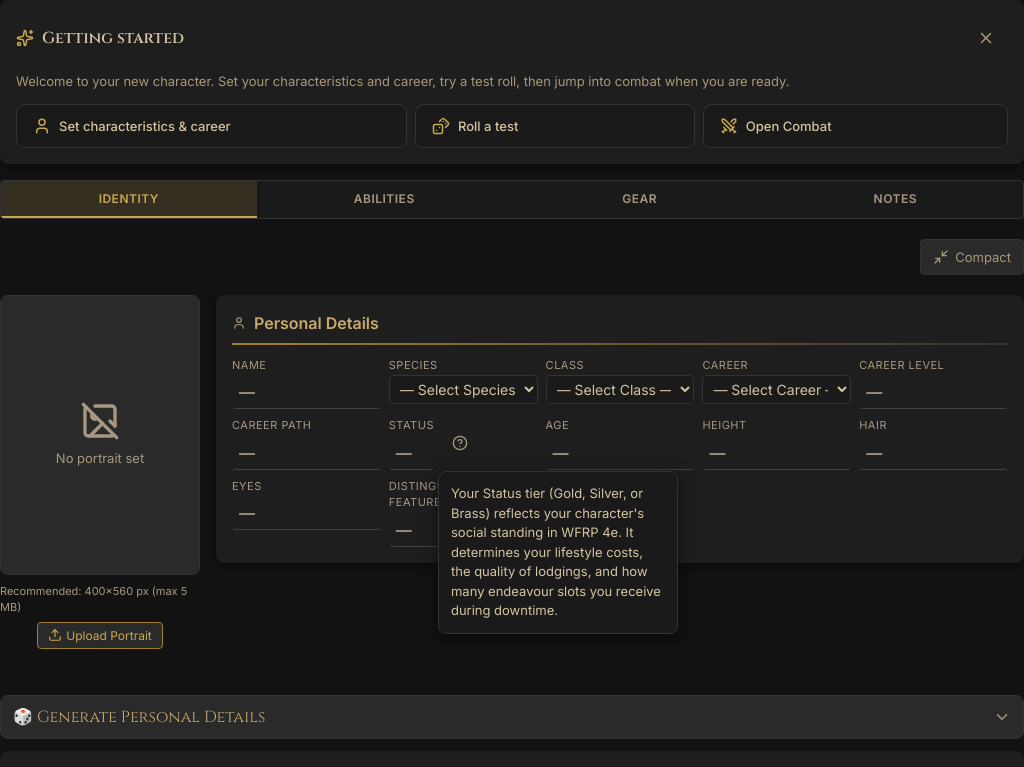
Test: CharacterPage compact mode (Req 9.1, 9.2, 9.3, 9.4) › compact mode renders summary (Req 9.2) › shows "(Unnamed)" when character name is empty in compact mode
This screenshot has width=1024, height=767.
Click the button with aria-label "switch to compact view". click: (972, 256)
box: [920,238,1023,274]
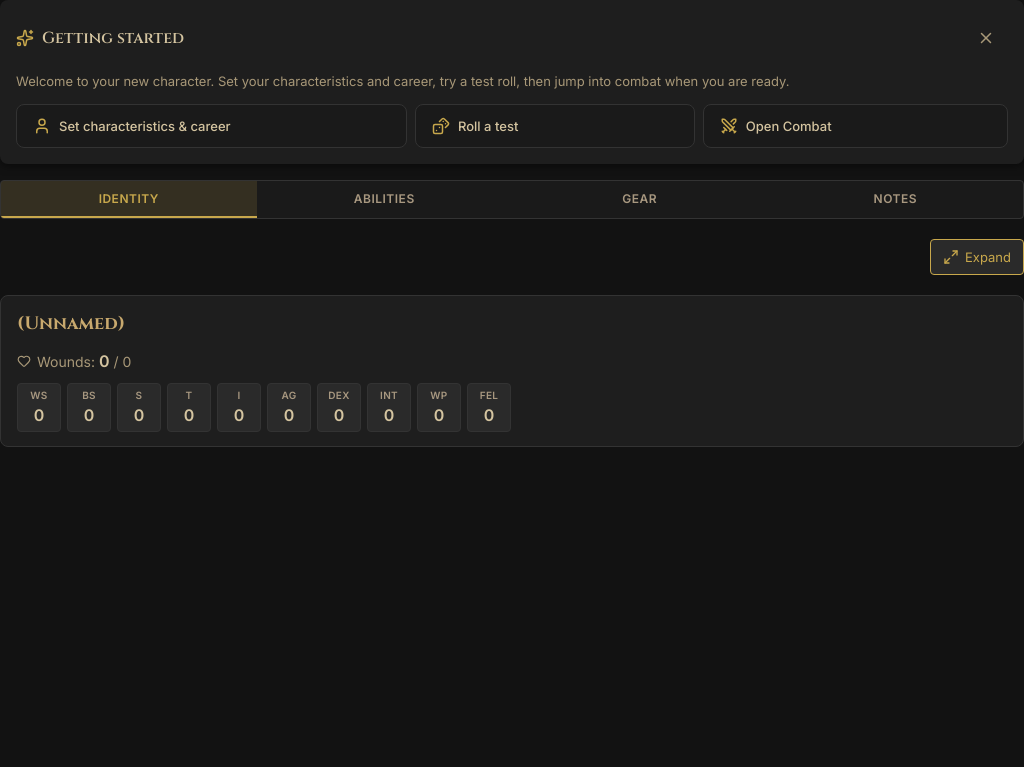
Expected: the text "(Unnamed)" is shown, [17,310,125,336]
